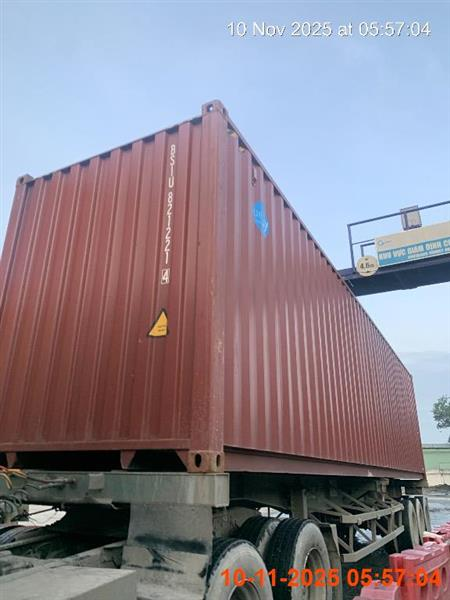crack: (0, 103, 448, 598)
